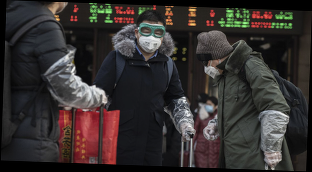with_mask: (137, 22, 165, 54), (202, 57, 221, 79), (203, 102, 216, 114)
